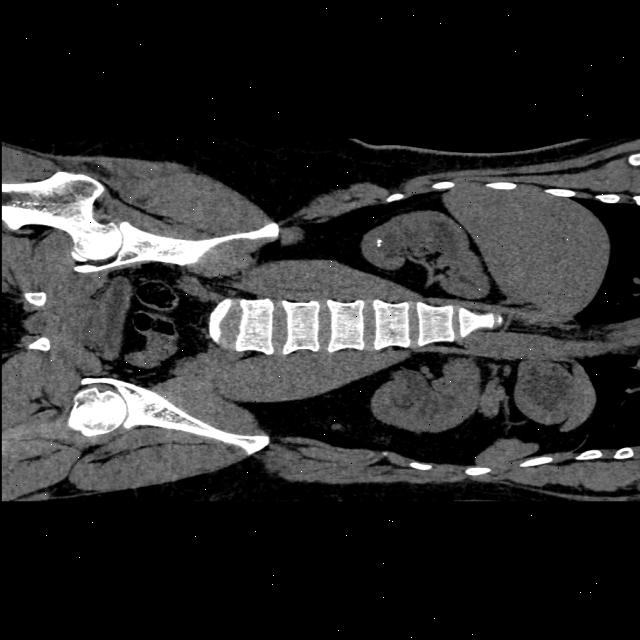kidneystone: (374, 238, 382, 248)
